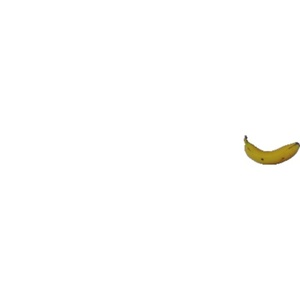banana: (240, 132, 299, 166)
